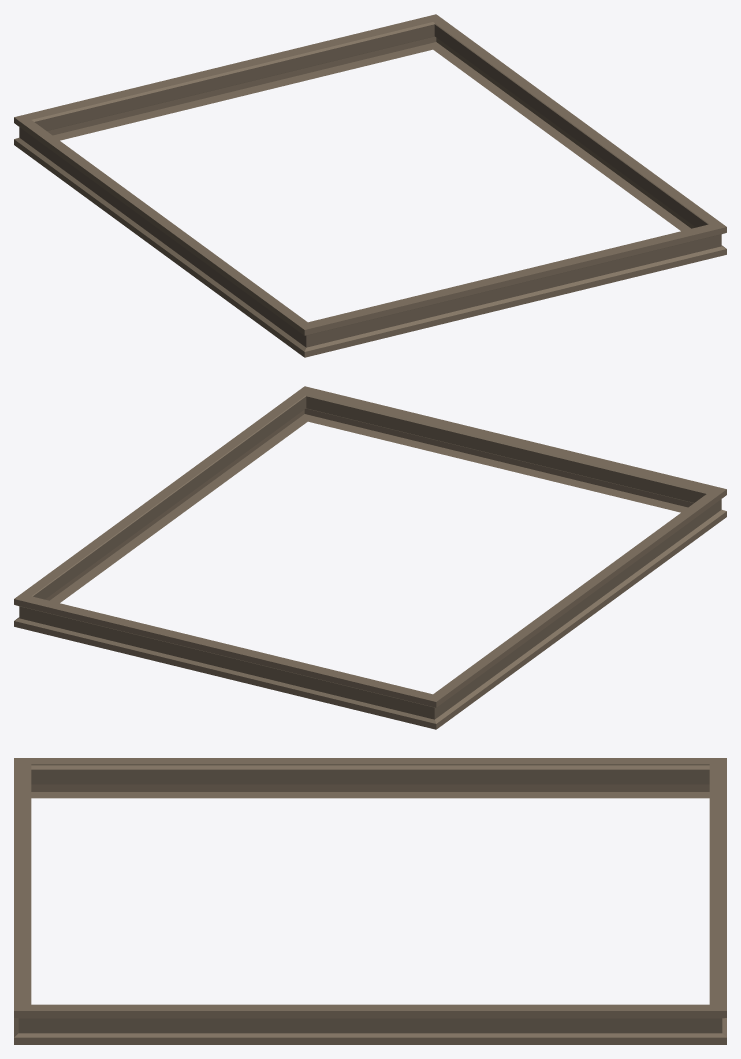
Rendered from SM_Bldg_City_Apartment_T1_Cornice_01.fbx.
The picture shows the model from 3 angles, top to bottom: view 1: azimuth 30°, elevation 25°; view 2: azimuth 150°, elevation 25°; view 3: azimuth 270°, elevation 25°; orthographic projection. The views are drawn at different scales.
Visible parts, largest first — view 1: SM_Bldg_City_Apartment_T1_Cornice_01; view 2: SM_Bldg_City_Apartment_T1_Cornice_01; view 3: SM_Bldg_City_Apartment_T1_Cornice_01.
Part boxes in pixels (x1,y1,x2,y2): SM_Bldg_City_Apartment_T1_Cornice_01: (14,14,726,357); SM_Bldg_City_Apartment_T1_Cornice_01: (14,386,726,729); SM_Bldg_City_Apartment_T1_Cornice_01: (14,758,726,1044).
Size of the model in its own units: 520 by 32.66 by 620.
